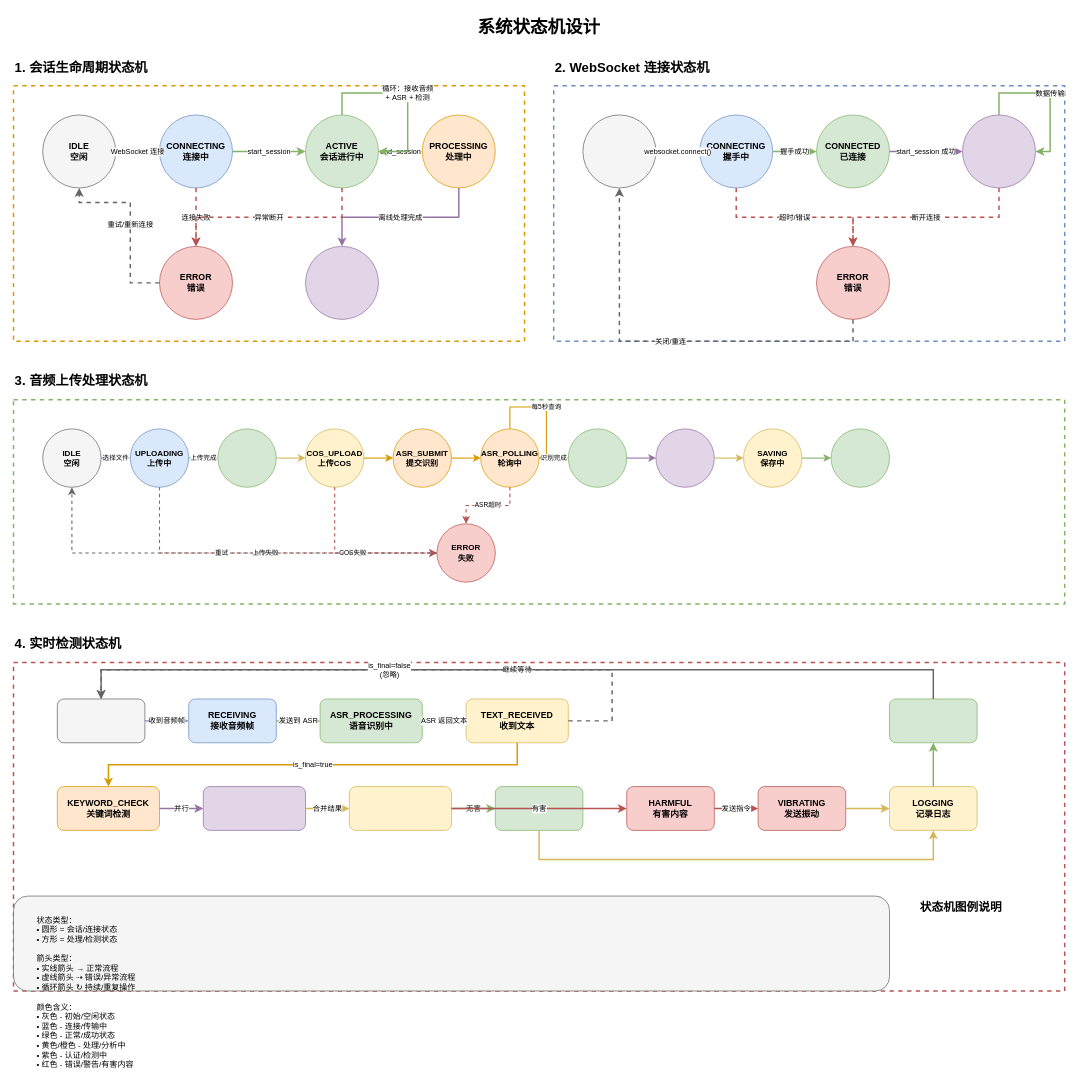
This 1077x1082 diagram has some shape labels left out. Here are the shapes that lost their labels. From the top down, the centre of each, then its label:
At pixel 619 151: "DISCONNECTED 未连接".
At pixel 999 151: "AUTHENTICATED 已认证".
At pixel 342 282: "COMPLETED 已完成".
At pixel 246 457: "UPLOADED 已上传".
At pixel 597 457: "ASR_DONE 识别完成".
At pixel 684 457: "LLM_DETECT 检测中".
At pixel 860 457: "COMPLETED 完成".
At pixel 101 720: "WAITING 等待音频".
At pixel 933 720: "DONE 完成".
At pixel 254 808: "LLM_CHECK LLM 检测".
At pixel 400 808: "ANALYZING 分析结果".
At pixel 539 808: "SAFE 正常内容".
